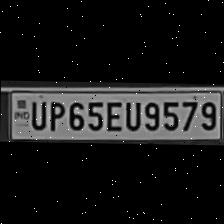5: (159, 96, 179, 130), (83, 96, 103, 129)
6: (64, 98, 84, 130)
7: (178, 97, 196, 130)
9: (196, 98, 218, 130), (140, 96, 160, 129)
E: (104, 97, 122, 130)
P: (44, 97, 64, 131)
U: (122, 98, 142, 130), (27, 97, 47, 128)
